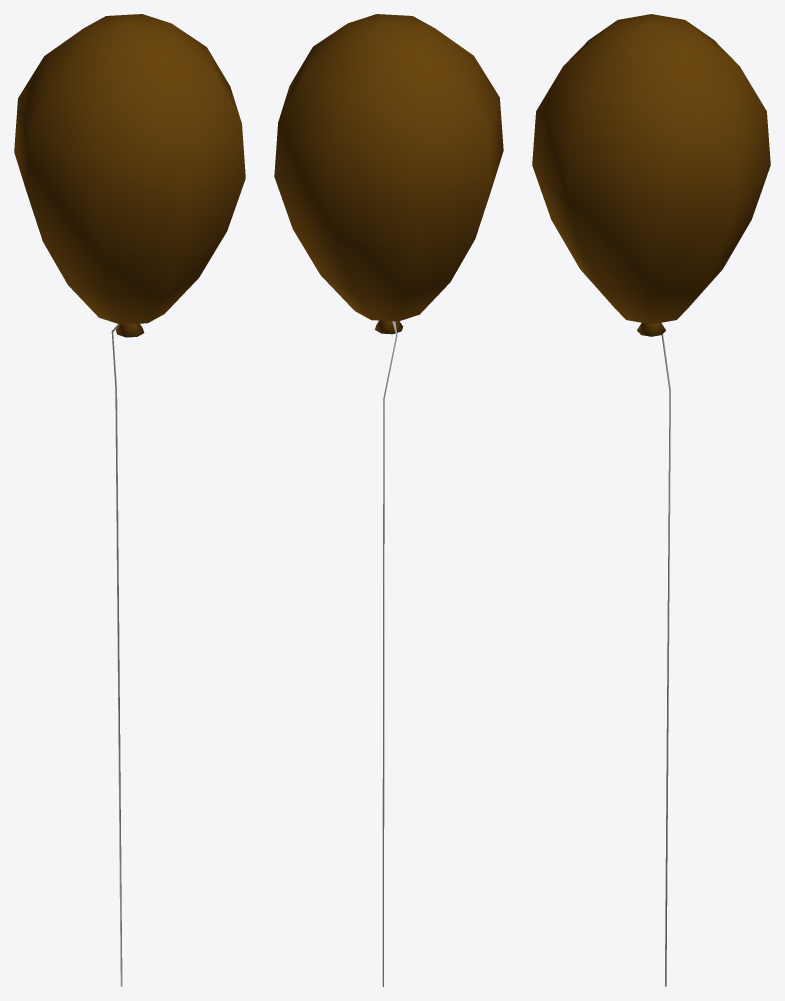
The model's file is BalloonBrown.glb.
3 views of the same model, side by side, from view 1: azimuth 30°, elevation 25°; view 2: azimuth 150°, elevation 25°; view 3: azimuth 270°, elevation 25° (orthographic).
Visible parts, largest first — view 1: BalloonBrown; view 2: BalloonBrown; view 3: BalloonBrown.
Part boxes in pixels (box(x1,y1,x2,y2)): BalloonBrown: box(14, 14, 245, 986); BalloonBrown: box(274, 14, 503, 986); BalloonBrown: box(532, 14, 770, 986).
Bounding box in the file's own units: 0.5007 × 2.23 × 0.5007.
1 material, 1 textured.
